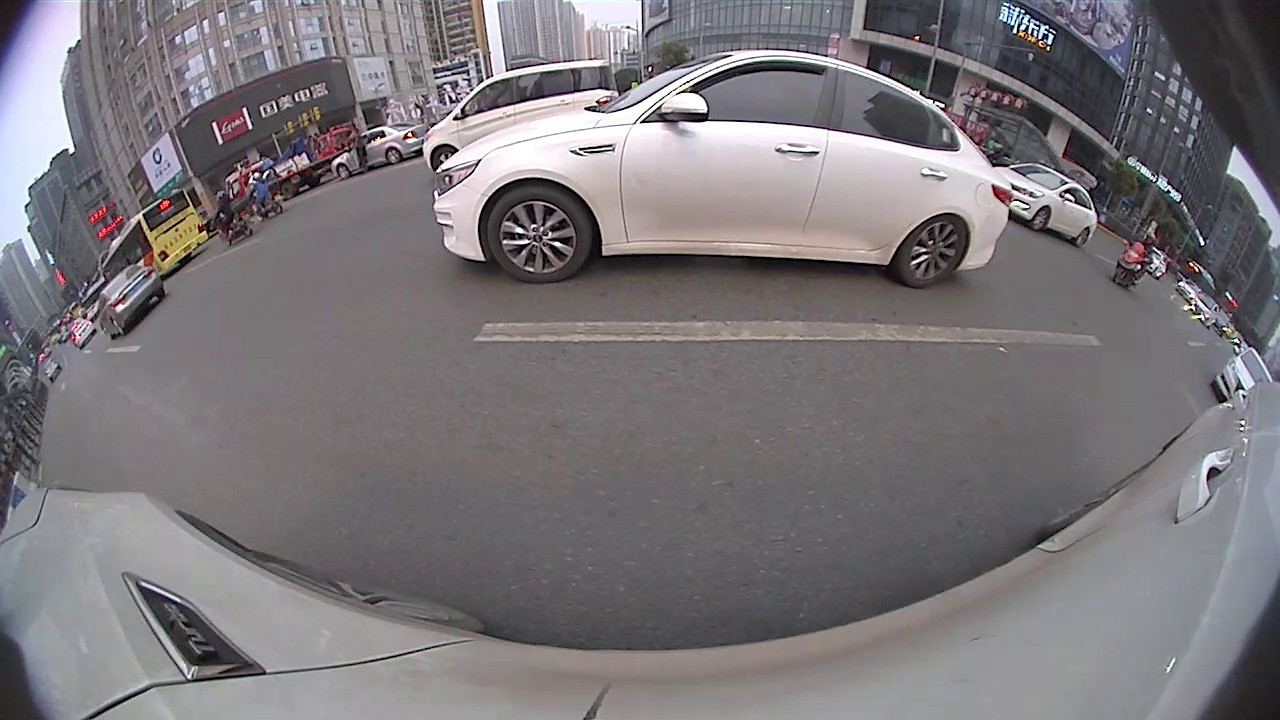bus: (108, 186, 206, 287)
car: (431, 48, 1012, 291), (418, 57, 619, 182), (977, 161, 1106, 249), (91, 259, 162, 339), (1217, 346, 1276, 414)
front: (483, 184, 595, 289), (431, 143, 459, 173), (1027, 204, 1051, 232), (336, 162, 351, 182)
rear: (894, 213, 968, 290), (1072, 226, 1091, 250), (384, 147, 403, 167)
rider: (1110, 231, 1158, 293), (212, 191, 253, 254)
